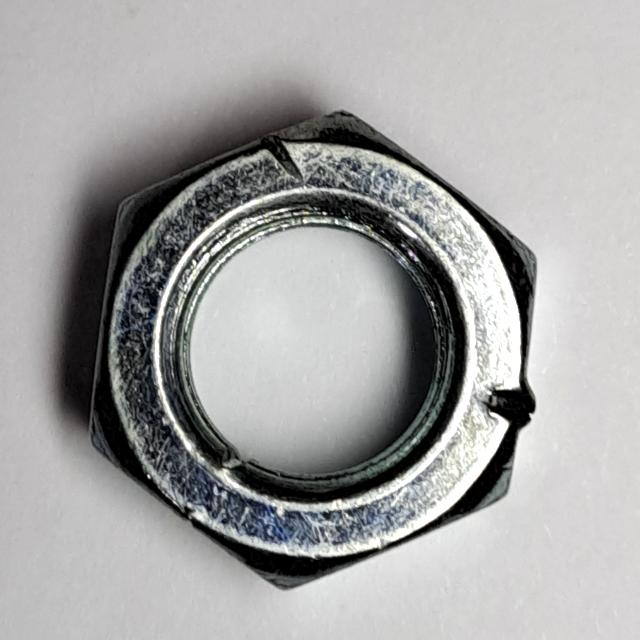Scratches: (79, 96, 558, 606)
